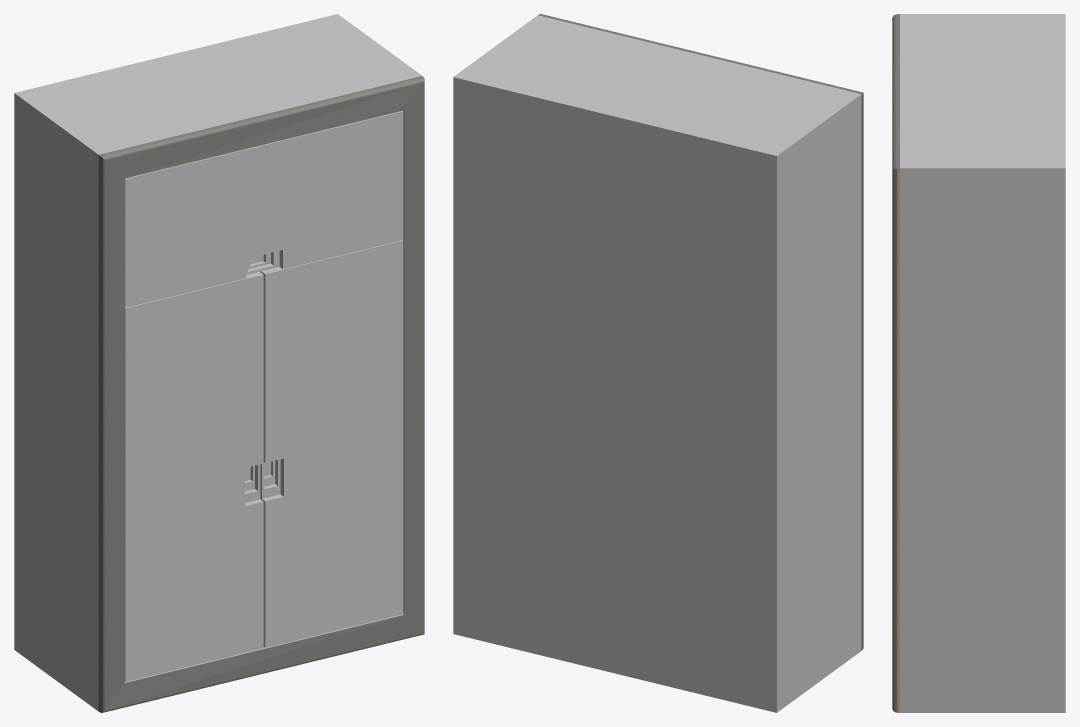
Rendered from szafaS.FBX.
The picture shows the model from 3 angles, left to right: view 1: azimuth 30°, elevation 25°; view 2: azimuth 150°, elevation 25°; view 3: azimuth 270°, elevation 25°; orthographic projection. The views are drawn at different scales.
Parts seen in each view (by area): view 1: Box743, Box745, Box744, Box746; view 2: Box743; view 3: Box743.
Part boxes in pixels (x1=…): Box743: x1=14, y1=14, x2=424, y2=712; Box745: x1=260, y1=240, x2=403, y2=647; Box744: x1=124, y1=272, x2=263, y2=681; Box746: x1=124, y1=110, x2=403, y2=307; Box743: x1=453, y1=14, x2=863, y2=712; Box743: x1=892, y1=14, x2=1065, y2=712.
Bounding box in the file's own units: 5.54 × 9.11 × 2.63.
